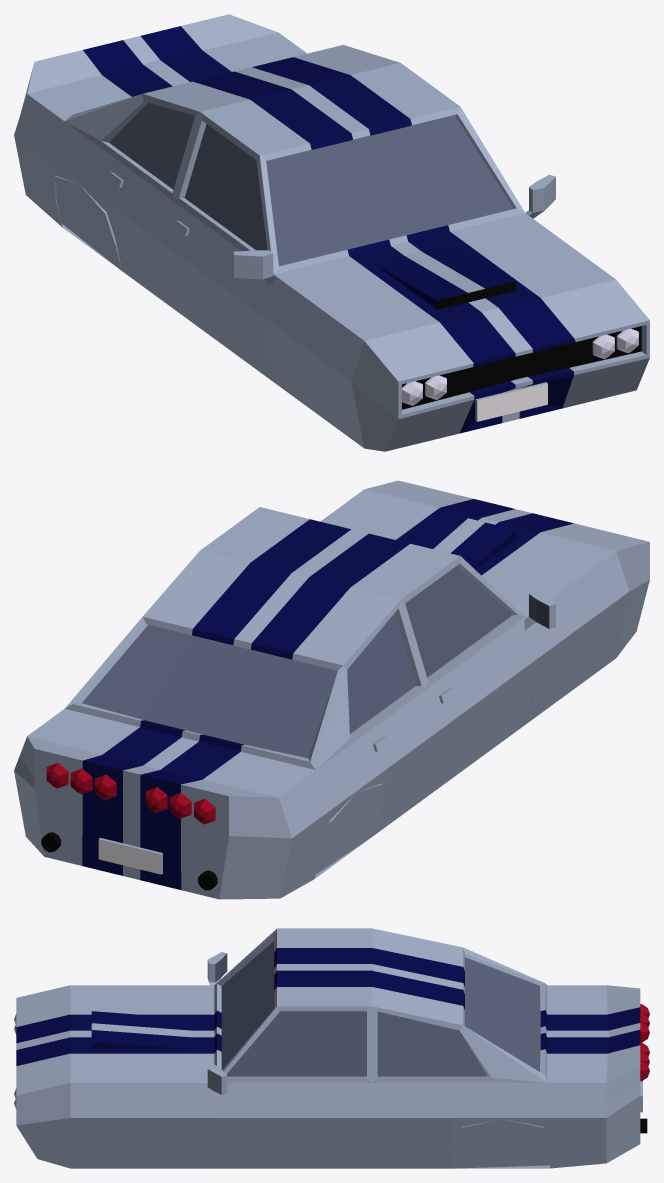
The model's file is Muscle 2.glb.
The picture shows the model from 3 angles, top to bottom: view 1: azimuth 30°, elevation 25°; view 2: azimuth 150°, elevation 25°; view 3: azimuth 270°, elevation 25°; orthographic projection. The views are drawn at different scales.
Parts seen in each view (by area): view 1: Muscle 2; view 2: Muscle 2; view 3: Muscle 2.
Part boxes in pixels (x1,y1,x2,y2): Muscle 2: [14, 14, 649, 451]; Muscle 2: [14, 480, 649, 899]; Muscle 2: [14, 928, 649, 1168].
Bounding box in the file's own units: 281 × 171 × 606.
